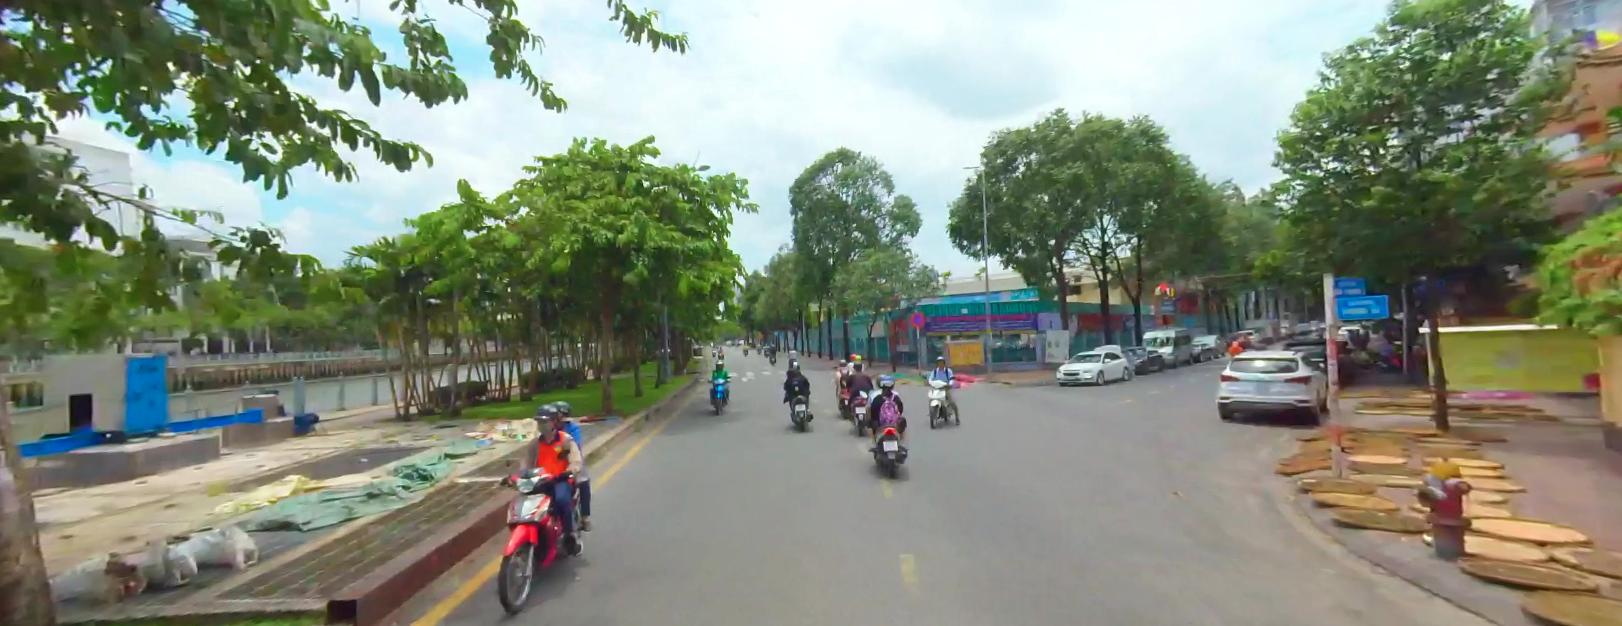Cam dung va do: (910, 310, 925, 325)
